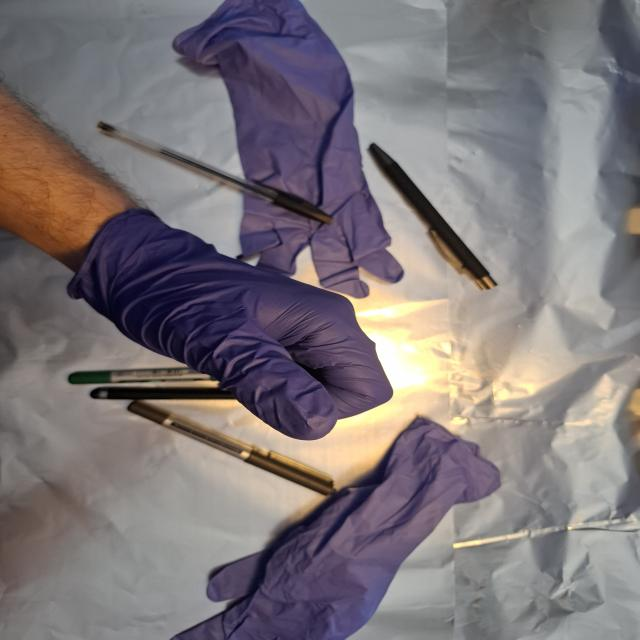glove_on: (76, 212, 396, 443)
